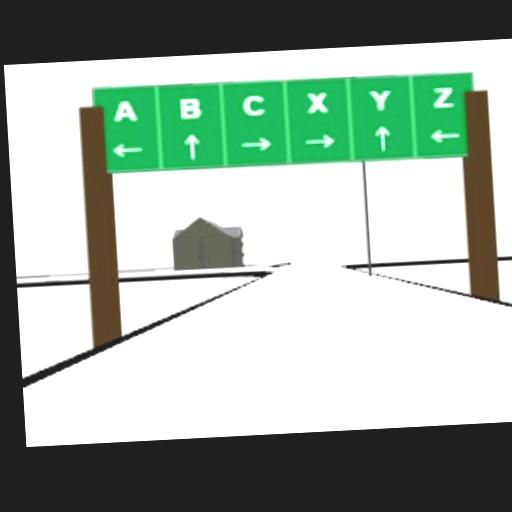A: (112, 99, 136, 123)
B: (180, 98, 202, 121)
C: (241, 94, 265, 116)
Left: (110, 142, 144, 158), (429, 130, 462, 145)
Right: (240, 135, 273, 153), (303, 132, 336, 150)
Straight: (181, 132, 201, 159), (373, 124, 392, 151)
X: (304, 91, 328, 113)
Y: (368, 87, 392, 111)
Z: (431, 85, 453, 107)
